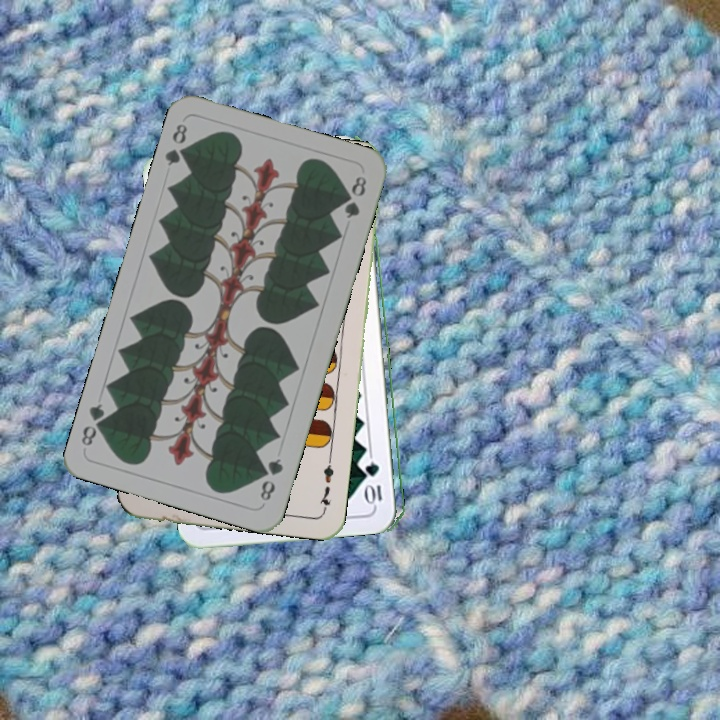E7: (315, 455, 336, 514)
G10: (365, 457, 385, 507)
G8: (161, 119, 193, 169), (256, 454, 286, 504)
